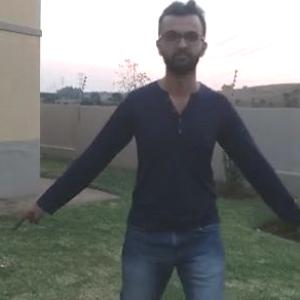land: (17, 7, 299, 296)
